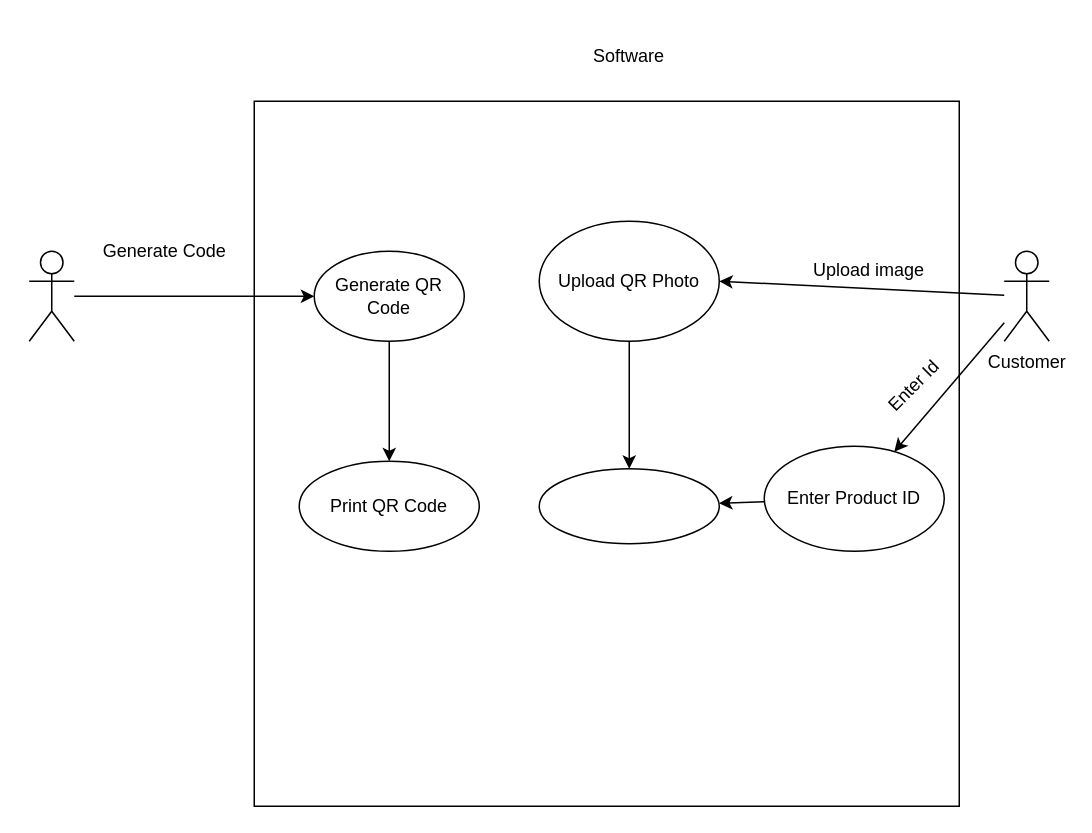
Some shapes in this 1092 by 833 pixel diagram are drawn without their labels. The centre of each missing label's shape, as x and y in pixels:
Admin: the point at 51,295
Autheticate: the point at 628,505
